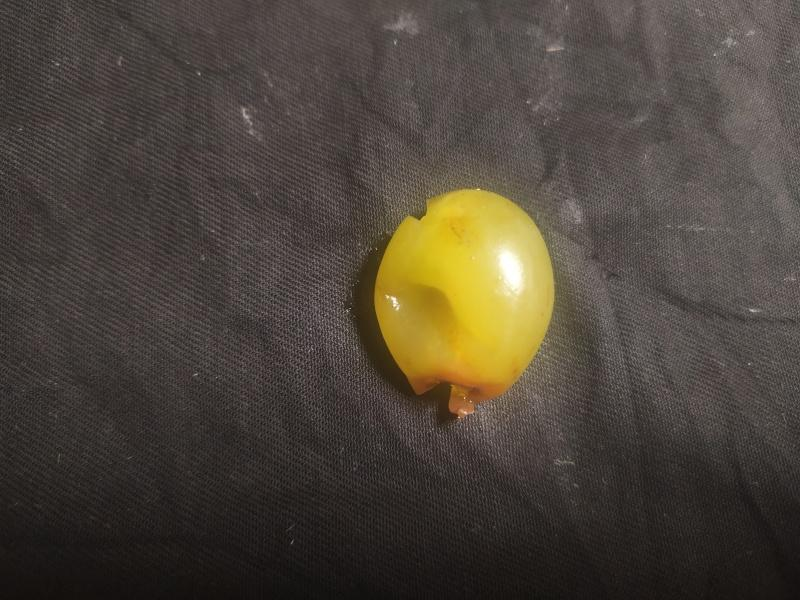Grape Overripe: (372, 186, 557, 420)
